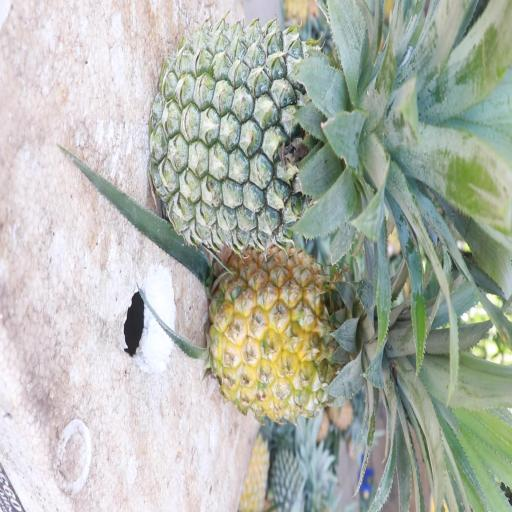Pineapple - v8 v1: (211, 244, 466, 506)
